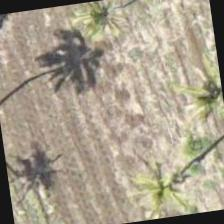Kelapa_Sawit: (116, 133, 216, 222), (161, 48, 223, 147), (55, 0, 152, 58)
